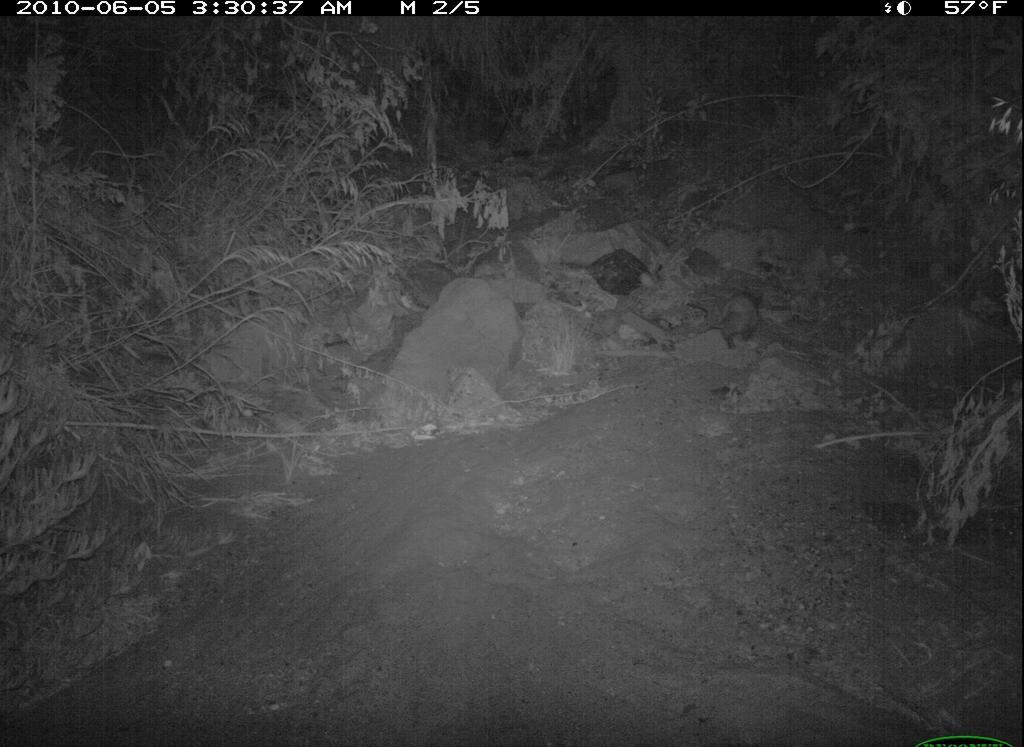opossum: (695, 278, 769, 361)
